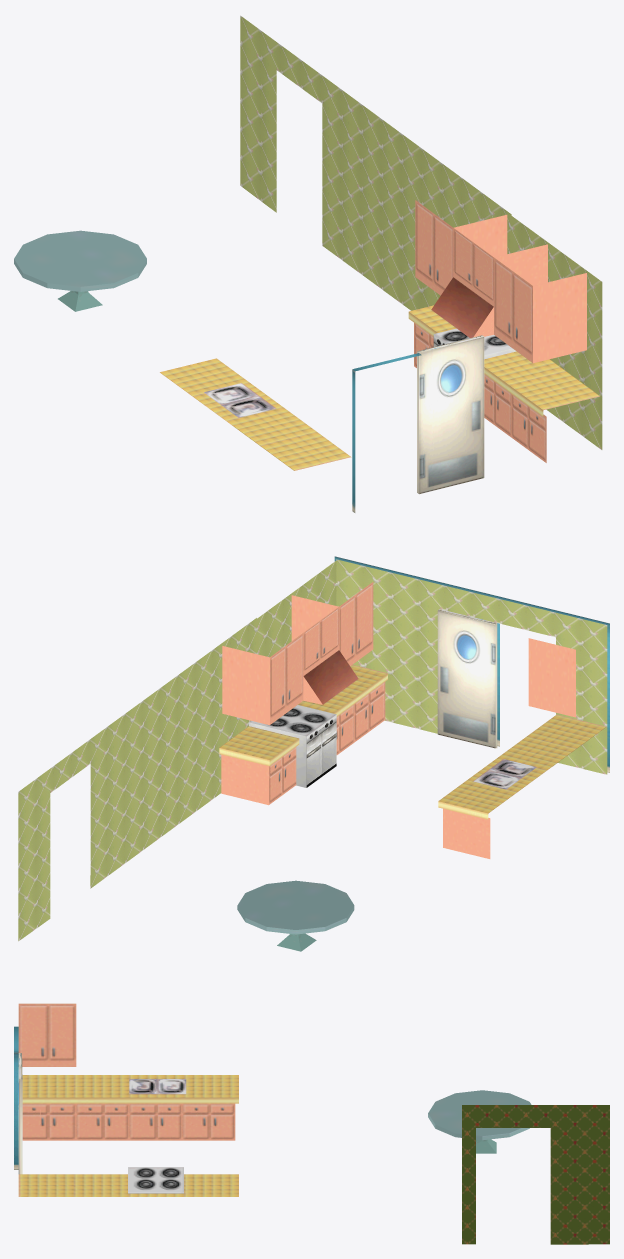
Rendered from KITCHEN.glb.
3 views of the same model, one above another, from view 1: azimuth 30°, elevation 25°; view 2: azimuth 150°, elevation 25°; view 3: azimuth 270°, elevation 25° (orthographic). The views are drawn at different scales.
Visible parts, largest first — view 1: KITCHEN; view 2: KITCHEN; view 3: KITCHEN.
Boxes of the visible parts, left/top/right/bottom form: KITCHEN: left=14, top=15, right=602, bottom=512; KITCHEN: left=18, top=556, right=609, bottom=951; KITCHEN: left=14, top=1003, right=609, bottom=1244.
Bounding box in the file's own units: 1200 × 626 × 2418.
Materials: 8 (8 with a texture image).
